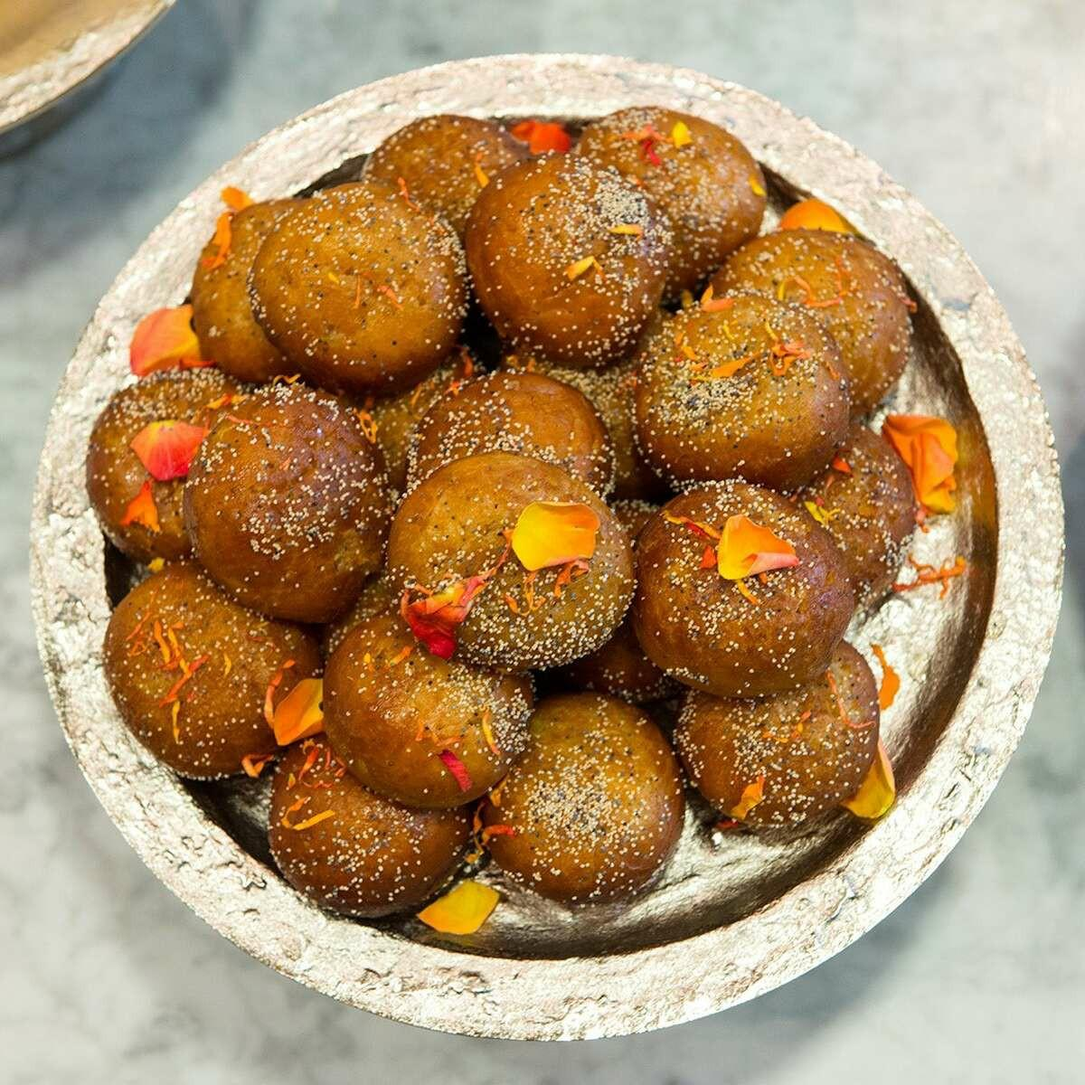GulabJamun: (381, 450, 638, 671), (638, 480, 853, 703), (634, 280, 855, 495), (180, 394, 391, 615), (492, 675, 685, 908), (251, 184, 468, 386), (324, 600, 540, 790), (685, 636, 879, 834), (483, 166, 688, 350), (263, 738, 475, 913), (718, 211, 908, 398), (110, 567, 281, 766), (571, 99, 751, 259), (762, 425, 914, 610), (82, 373, 236, 555), (405, 365, 621, 494), (188, 197, 316, 384), (364, 111, 538, 246)
